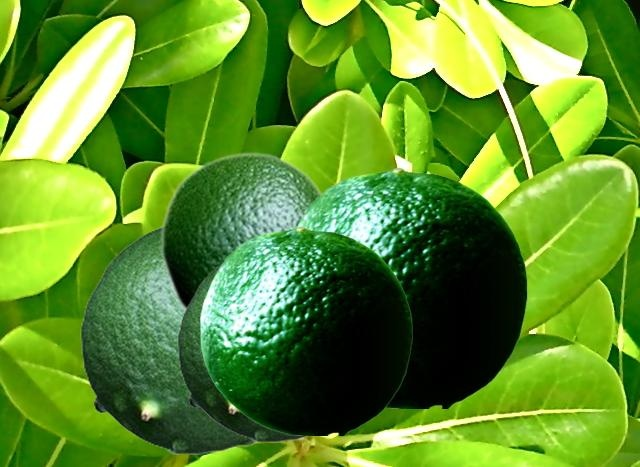calamansi: (294, 167, 526, 407), (200, 226, 411, 434), (80, 224, 259, 453), (177, 261, 324, 441), (159, 151, 323, 308)
